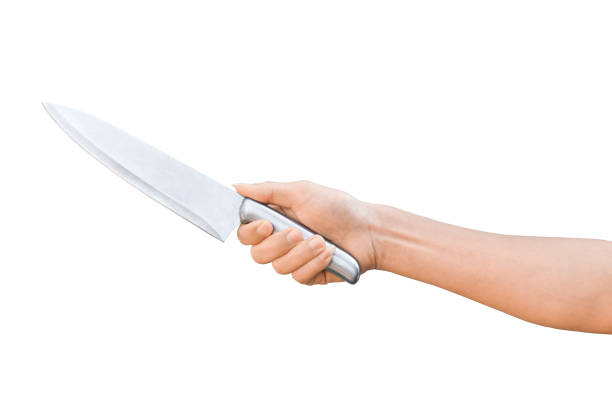knife: (41, 98, 361, 285)
